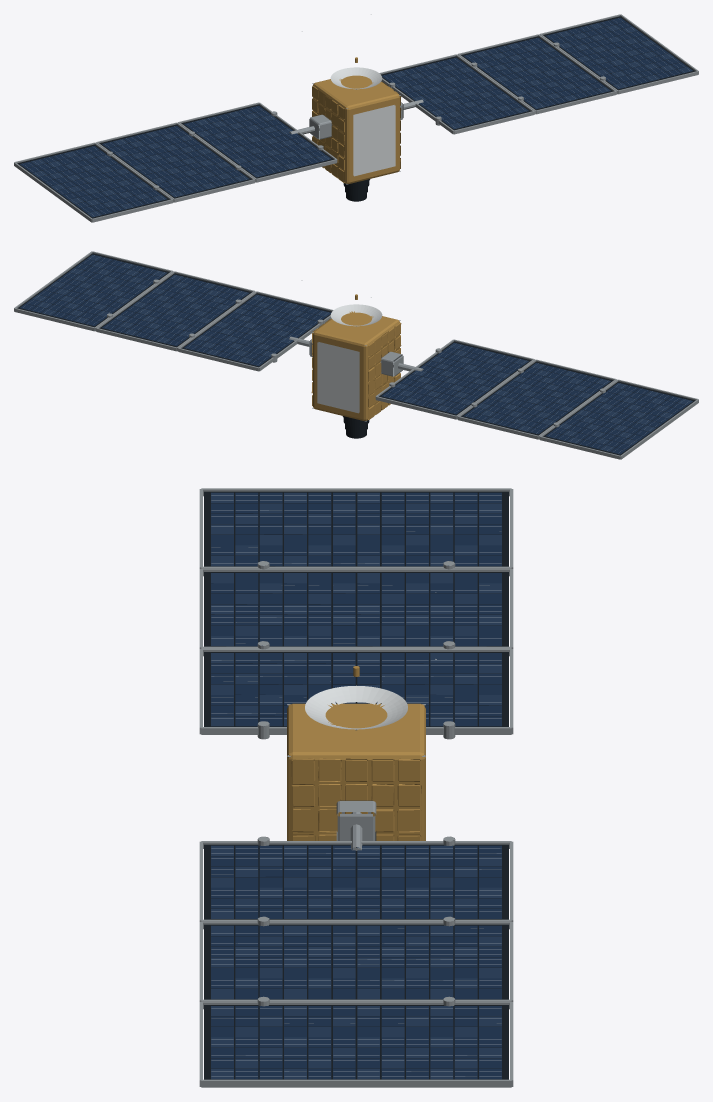
Rendered from observation-satellite-overview.glb.
3 views of the same model, one above another, from view 1: azimuth 30°, elevation 25°; view 2: azimuth 150°, elevation 25°; view 3: azimuth 270°, elevation 25° (orthographic). The views are drawn at different scales.
Visible parts, largest first — view 1: silicon cells, silicon cells alternate, graphite baffle, anodised aluminium, gold multilayer insulation, ceramic radiator, silver interconnects; view 2: silicon cells, silicon cells alternate, graphite baffle, anodised aluminium, gold multilayer insulation, ceramic radiator, silver interconnects; view 3: silicon cells, silicon cells alternate, graphite baffle, anodised aluminium, gold multilayer insulation, silver interconnects, ceramic radiator.
Boxes of the visible parts, x1,y1,x2,y2 form: silicon cells: (20, 17, 686, 214); silicon cells alternate: (31, 23, 692, 217); graphite baffle: (17, 16, 695, 218); anodised aluminium: (14, 14, 698, 222); gold multilayer insulation: (312, 57, 401, 184); ceramic radiator: (330, 67, 395, 176); silver interconnects: (25, 18, 689, 215); silicon cells: (20, 257, 686, 454); silicon cells alternate: (32, 254, 692, 451); graphite baffle: (17, 253, 695, 455); anodised aluminium: (14, 251, 698, 459); gold multilayer insulation: (311, 294, 401, 421); ceramic radiator: (317, 304, 382, 413); silver interconnects: (23, 255, 687, 452); silicon cells: (211, 492, 501, 1079); silicon cells alternate: (211, 492, 501, 1079); graphite baffle: (204, 491, 508, 1079); anodised aluminium: (199, 488, 513, 1087); gold multilayer insulation: (287, 666, 425, 840); silver interconnects: (211, 495, 501, 1076); ceramic radiator: (305, 685, 407, 729).
Bounding box in the file's own units: 10.59 × 2.67 × 2.37.
